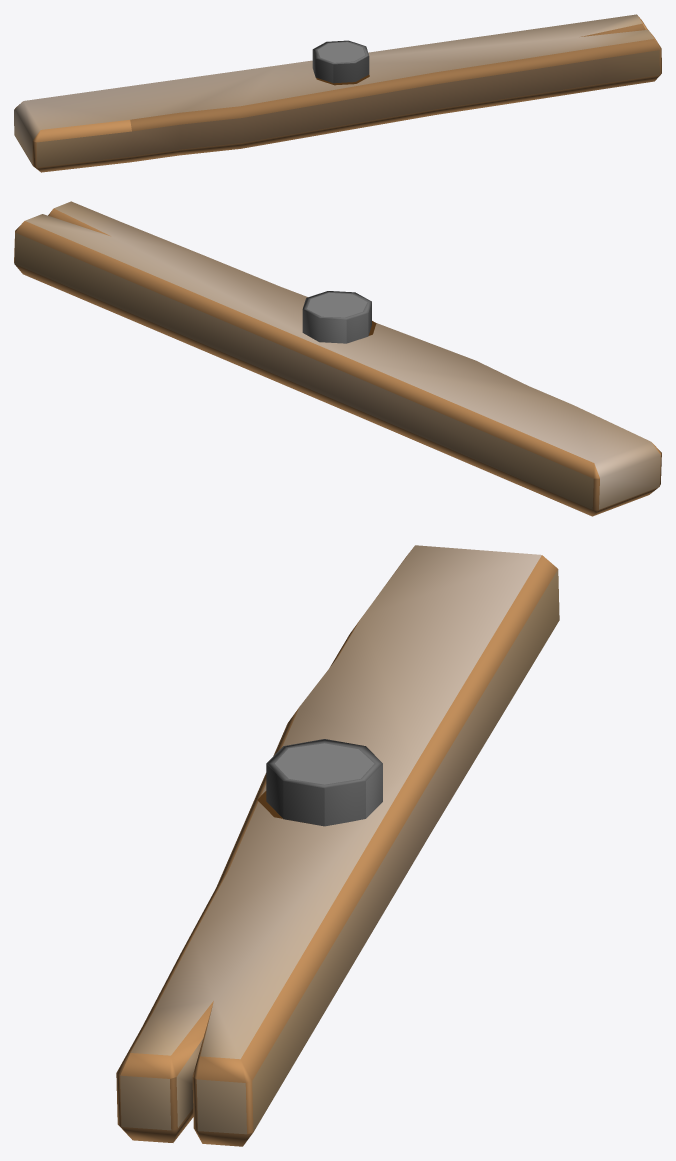
File: arms.fbx
3 views of the same model, one above another, from view 1: azimuth 30°, elevation 25°; view 2: azimuth 150°, elevation 25°; view 3: azimuth 270°, elevation 25° (orthographic). The views are drawn at different scales.
Parts seen in each view (by area): view 1: arms; view 2: arms; view 3: arms.
Part boxes in pixels (<box>): arms: <box>14,14,661,172</box>; arms: <box>14,201,661,516</box>; arms: <box>116,545,559,1146</box>.
Size of the model in its own units: 119 by 13.92 by 40.19.
